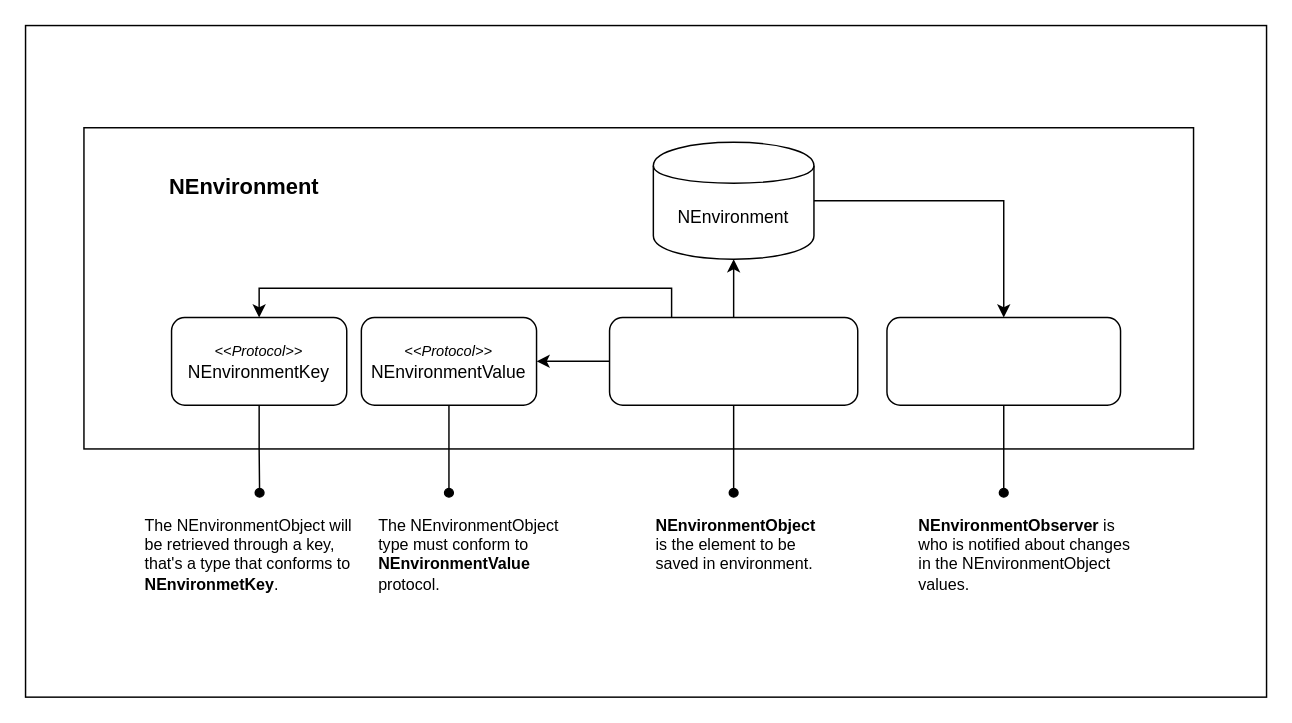
Some shapes in this 1292 by 723 pixel diagram are drawn without their labels. The centre of each missing label's shape, as x and y in pixels:
"<<PropertyWrapper>> NEnvironmentObject" belongs at (x=733, y=360).
"<<Protocol>> NEnvironmentObserver" belongs at (x=1003, y=360).
